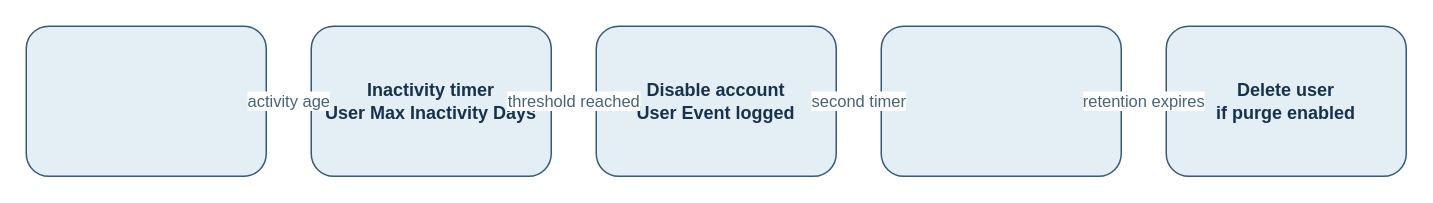
The diagram is 1433 pixels wide and 203 high, and some of its shapes have lost their labels. Each missing label, with the centre of its shape:
Auto-provisioned user: point (145, 100)
Disabled retention User Max Disabled Days: point (1000, 100)
